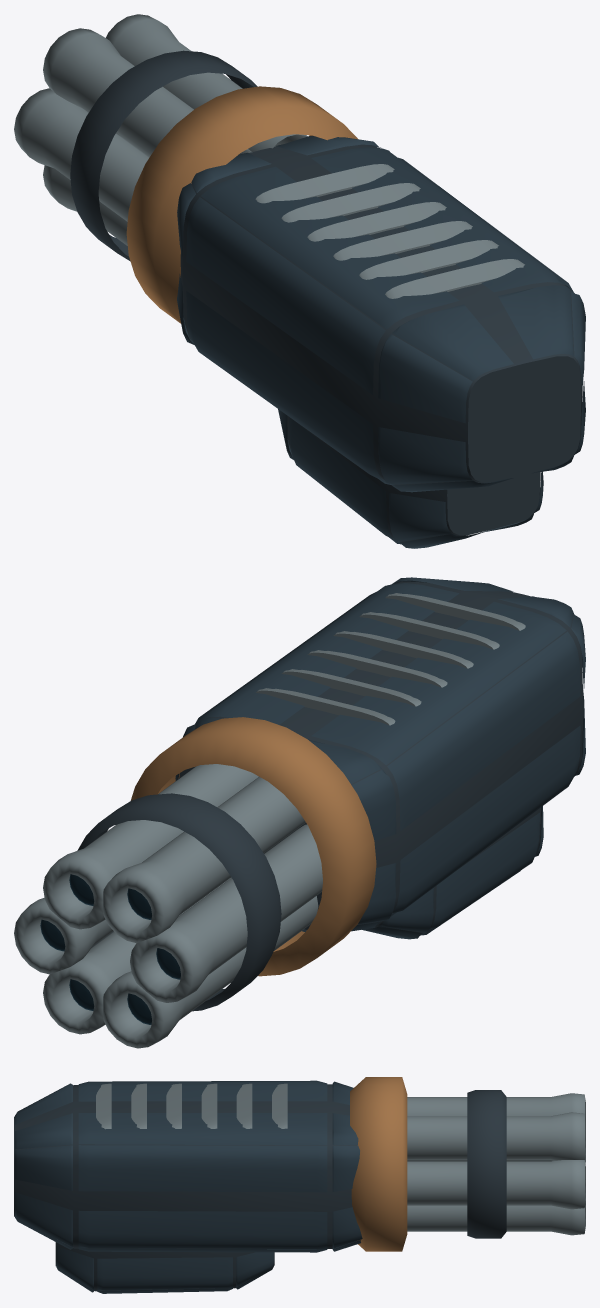
Rendered from quad_plasma.glb.
3 renders of one model, top to bottom at view 1: azimuth 30°, elevation 25°; view 2: azimuth 150°, elevation 25°; view 3: azimuth 270°, elevation 25°, orthographic. The views are drawn at different scales.
Parts seen in each view (by area): view 1: quad_plasma; view 2: quad_plasma; view 3: quad_plasma.
Part boxes in pixels (x1,y1,x2,y2): quad_plasma: (14, 14, 585, 548); quad_plasma: (14, 577, 585, 1048); quad_plasma: (14, 1077, 585, 1293).
Size of the model in its own units: 0.67 by 0.8114 by 2.19.
